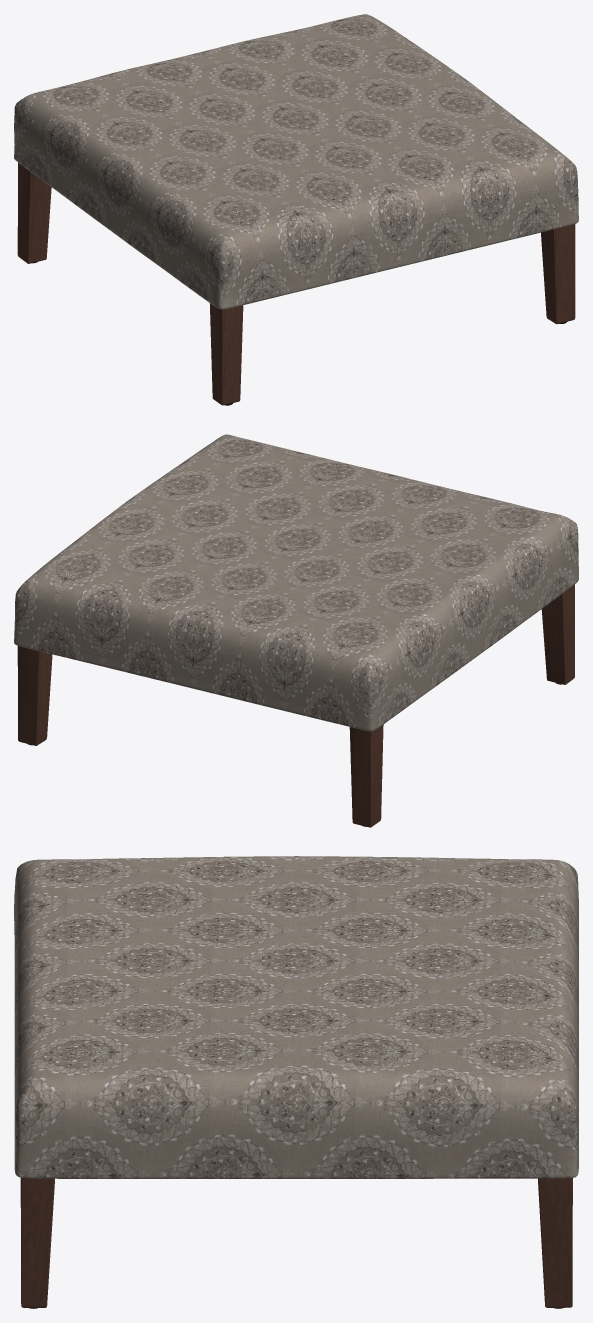
Rendered from benton_square_ottoman.glb.
3 renders of one model, top to bottom at view 1: azimuth 30°, elevation 25°; view 2: azimuth 150°, elevation 25°; view 3: azimuth 270°, elevation 25°, orthographic. The views are drawn at different scales.
Visible parts, largest first — view 1: RootNode; view 2: RootNode; view 3: RootNode.
Part boxes in pixels (<box>): RootNode: <box>14,14,578,405</box>; RootNode: <box>14,434,578,827</box>; RootNode: <box>14,856,578,1308</box>.
Bounding box in the file's own units: 0.8887 × 0.4115 × 0.8898.
1 material, 1 textured.
